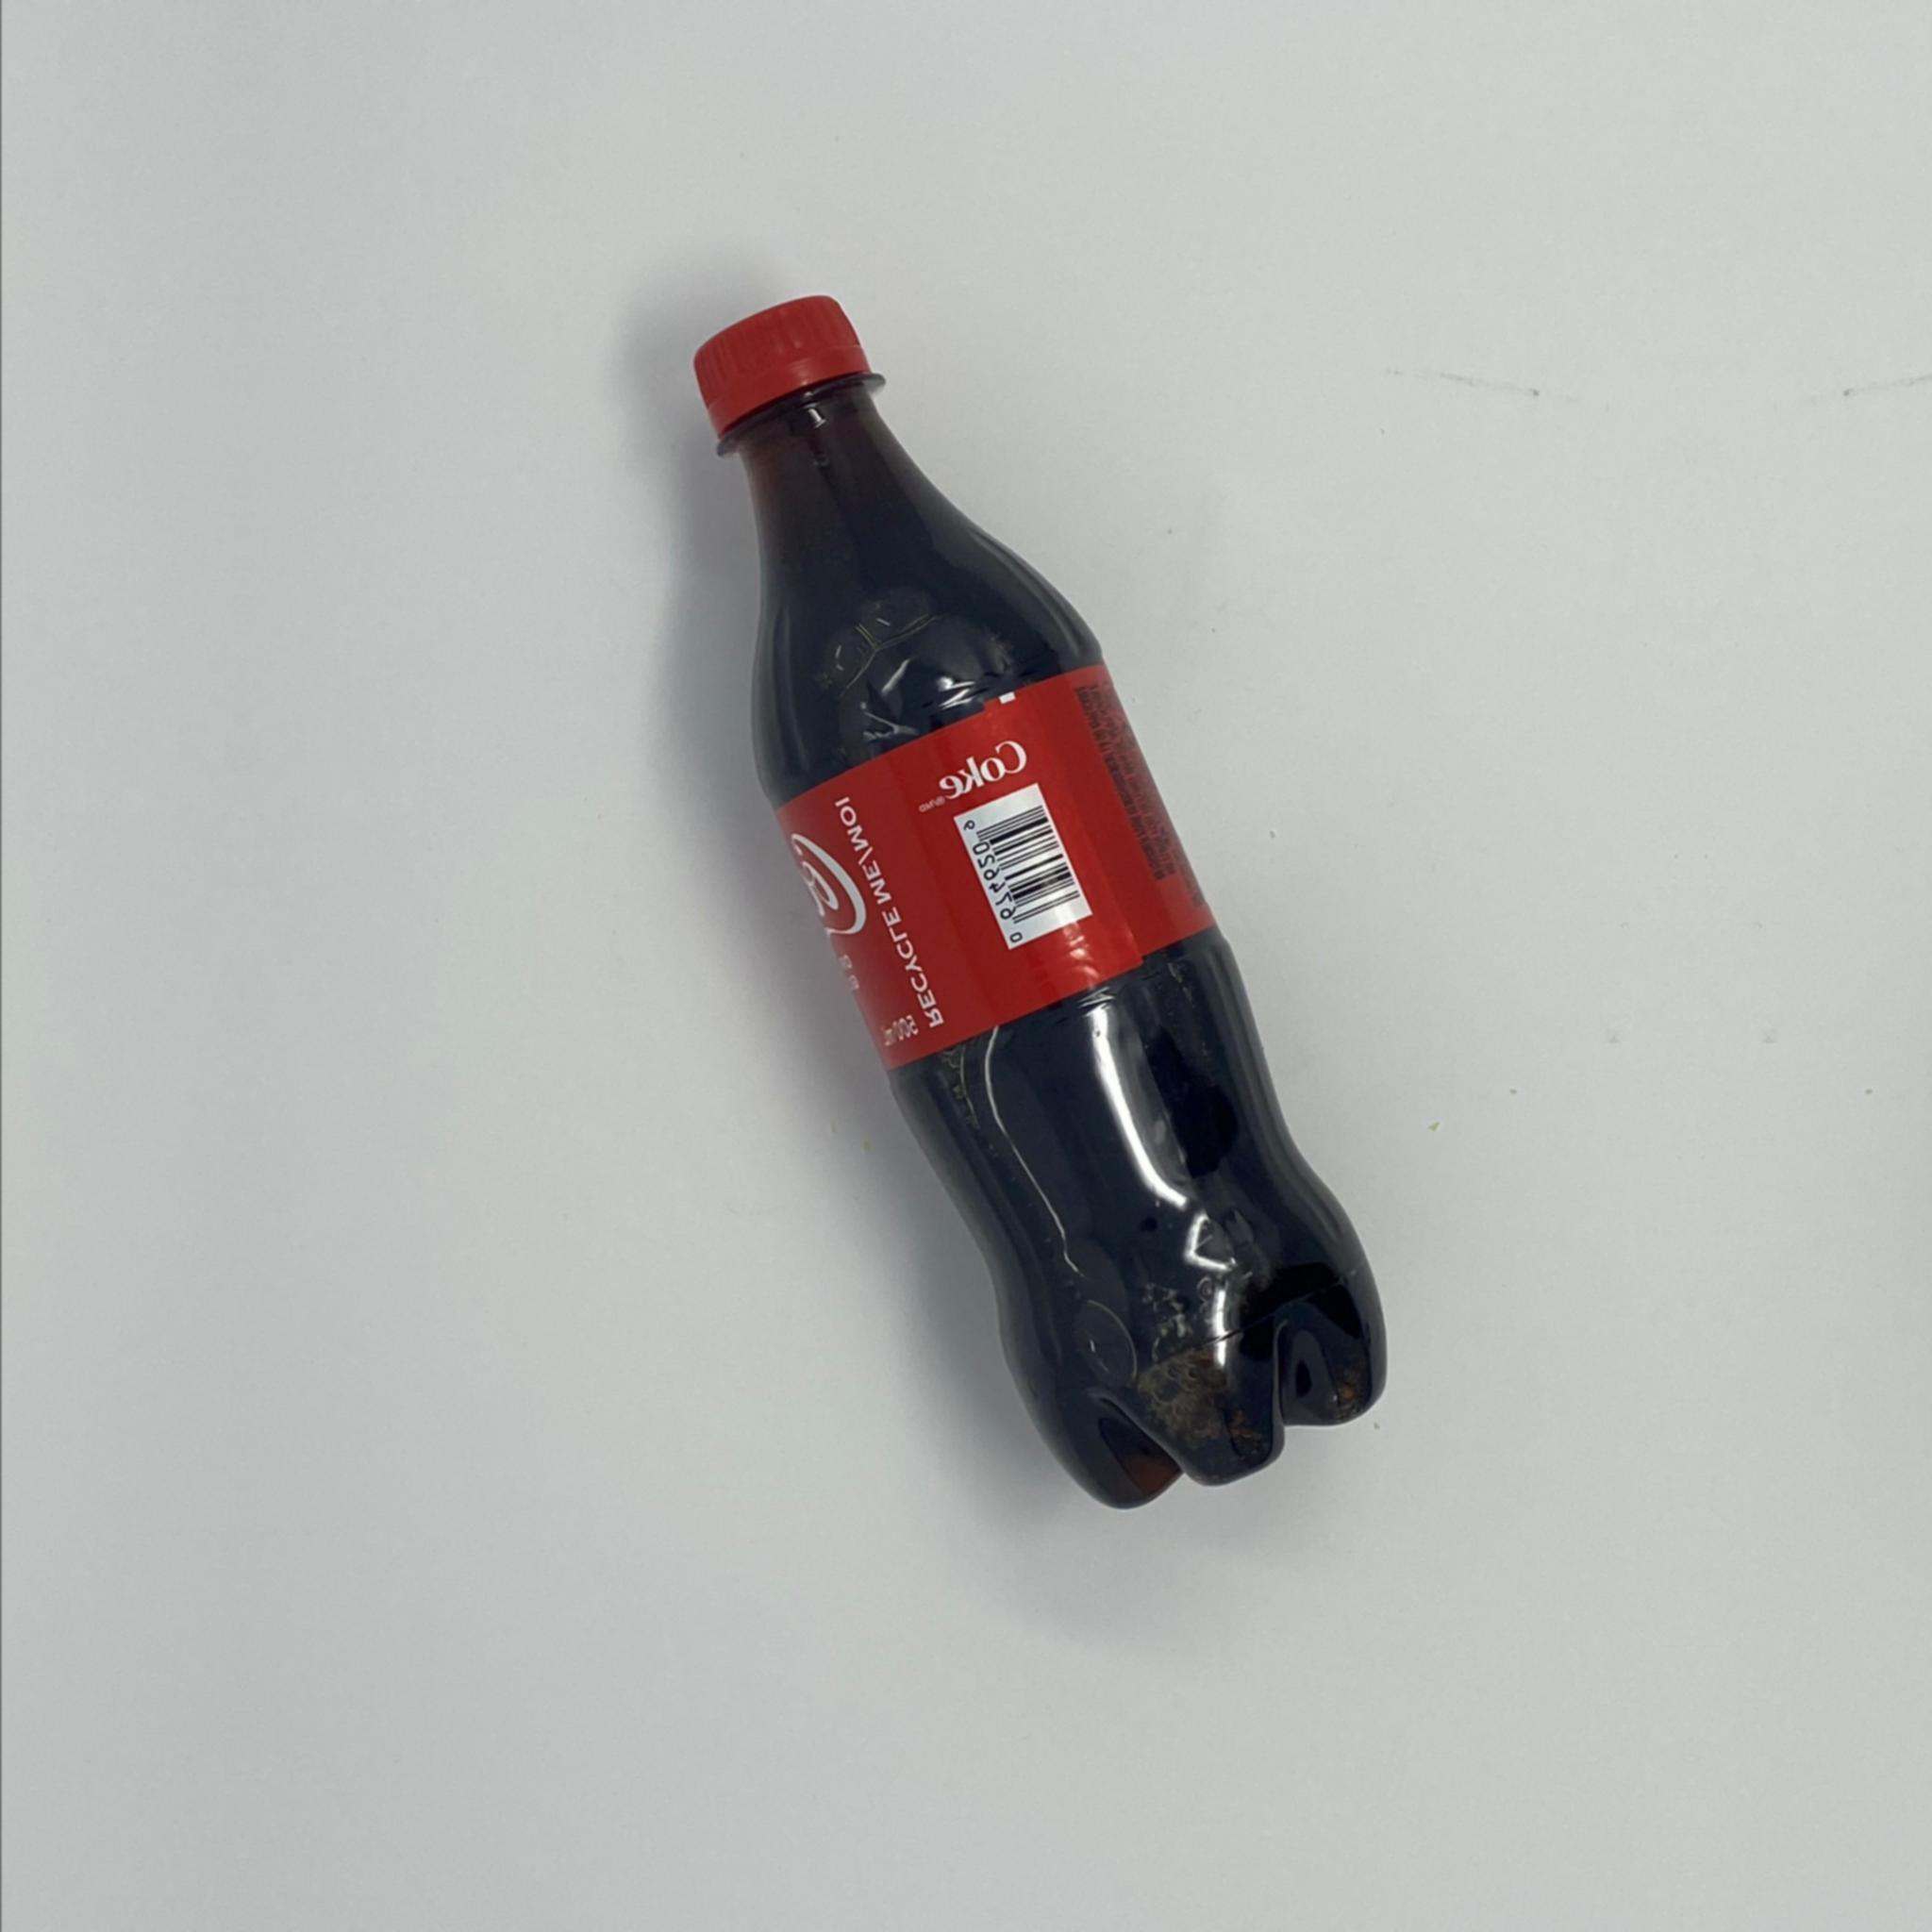PET: (688, 294, 1391, 1511)
cocacola: (688, 294, 1391, 1511)
plastic: (688, 294, 1391, 1511)
soft-drink: (688, 294, 1391, 1511)
